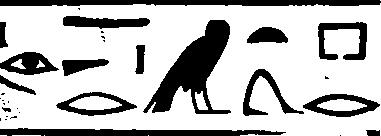Mouth: (52, 90, 140, 119), (301, 92, 381, 118)
Owl: (143, 18, 234, 117)
